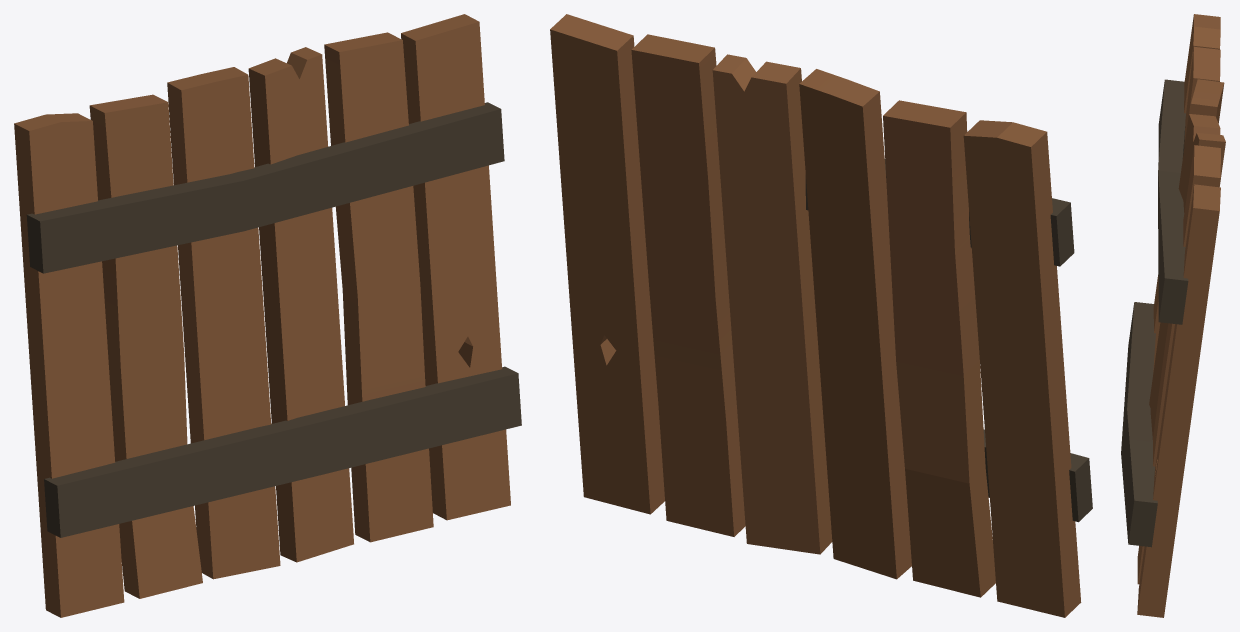
The model's file is Fence_Breakable_A (4).fbx.
The picture shows the model from 3 angles, left to right: view 1: azimuth 30°, elevation 25°; view 2: azimuth 150°, elevation 25°; view 3: azimuth 270°, elevation 25°; orthographic projection. The views are drawn at different scales.
Parts seen in each view (by area): view 1: Fence_Breakable_A (4); view 2: Fence_Breakable_A (4); view 3: Fence_Breakable_A (4).
Part boxes in pixels (<box>): Fence_Breakable_A (4): <box>14,14,521,617</box>; Fence_Breakable_A (4): <box>550,14,1092,617</box>; Fence_Breakable_A (4): <box>1121,14,1225,617</box>.
Bounding box in the file's own units: 4.5 × 4.4 × 1.
